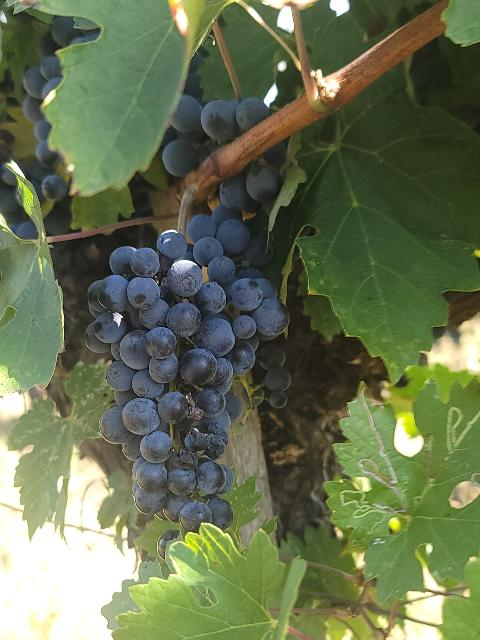grapes: (85, 220, 289, 560)
